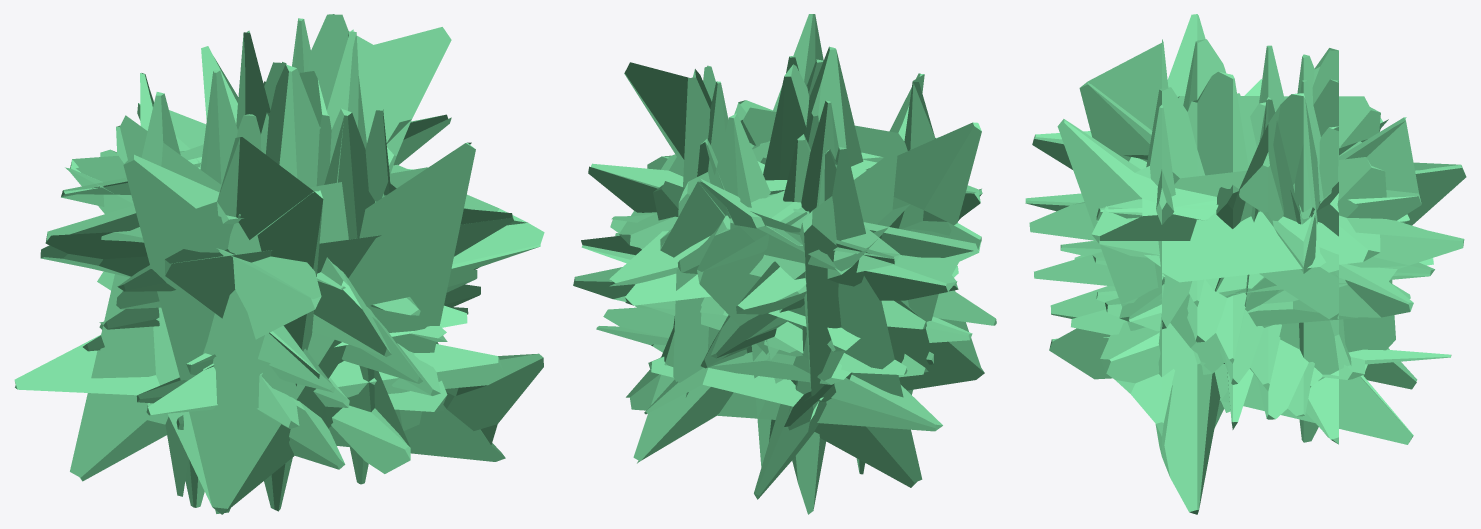
Rendered from form_10.glb.
3 views of the same model, side by side, from view 1: azimuth 30°, elevation 25°; view 2: azimuth 150°, elevation 25°; view 3: azimuth 270°, elevation 25° (orthographic). The views are drawn at different scales.
Visible parts, largest first — view 1: Cube; view 2: Cube; view 3: Cube.
Part boxes in pixels (x1,y1,x2,y2): Cube: (14, 14, 544, 514); Cube: (573, 14, 996, 514); Cube: (1025, 14, 1466, 514).
Bounding box in the file's own units: 1.82 × 1.89 × 1.81.
